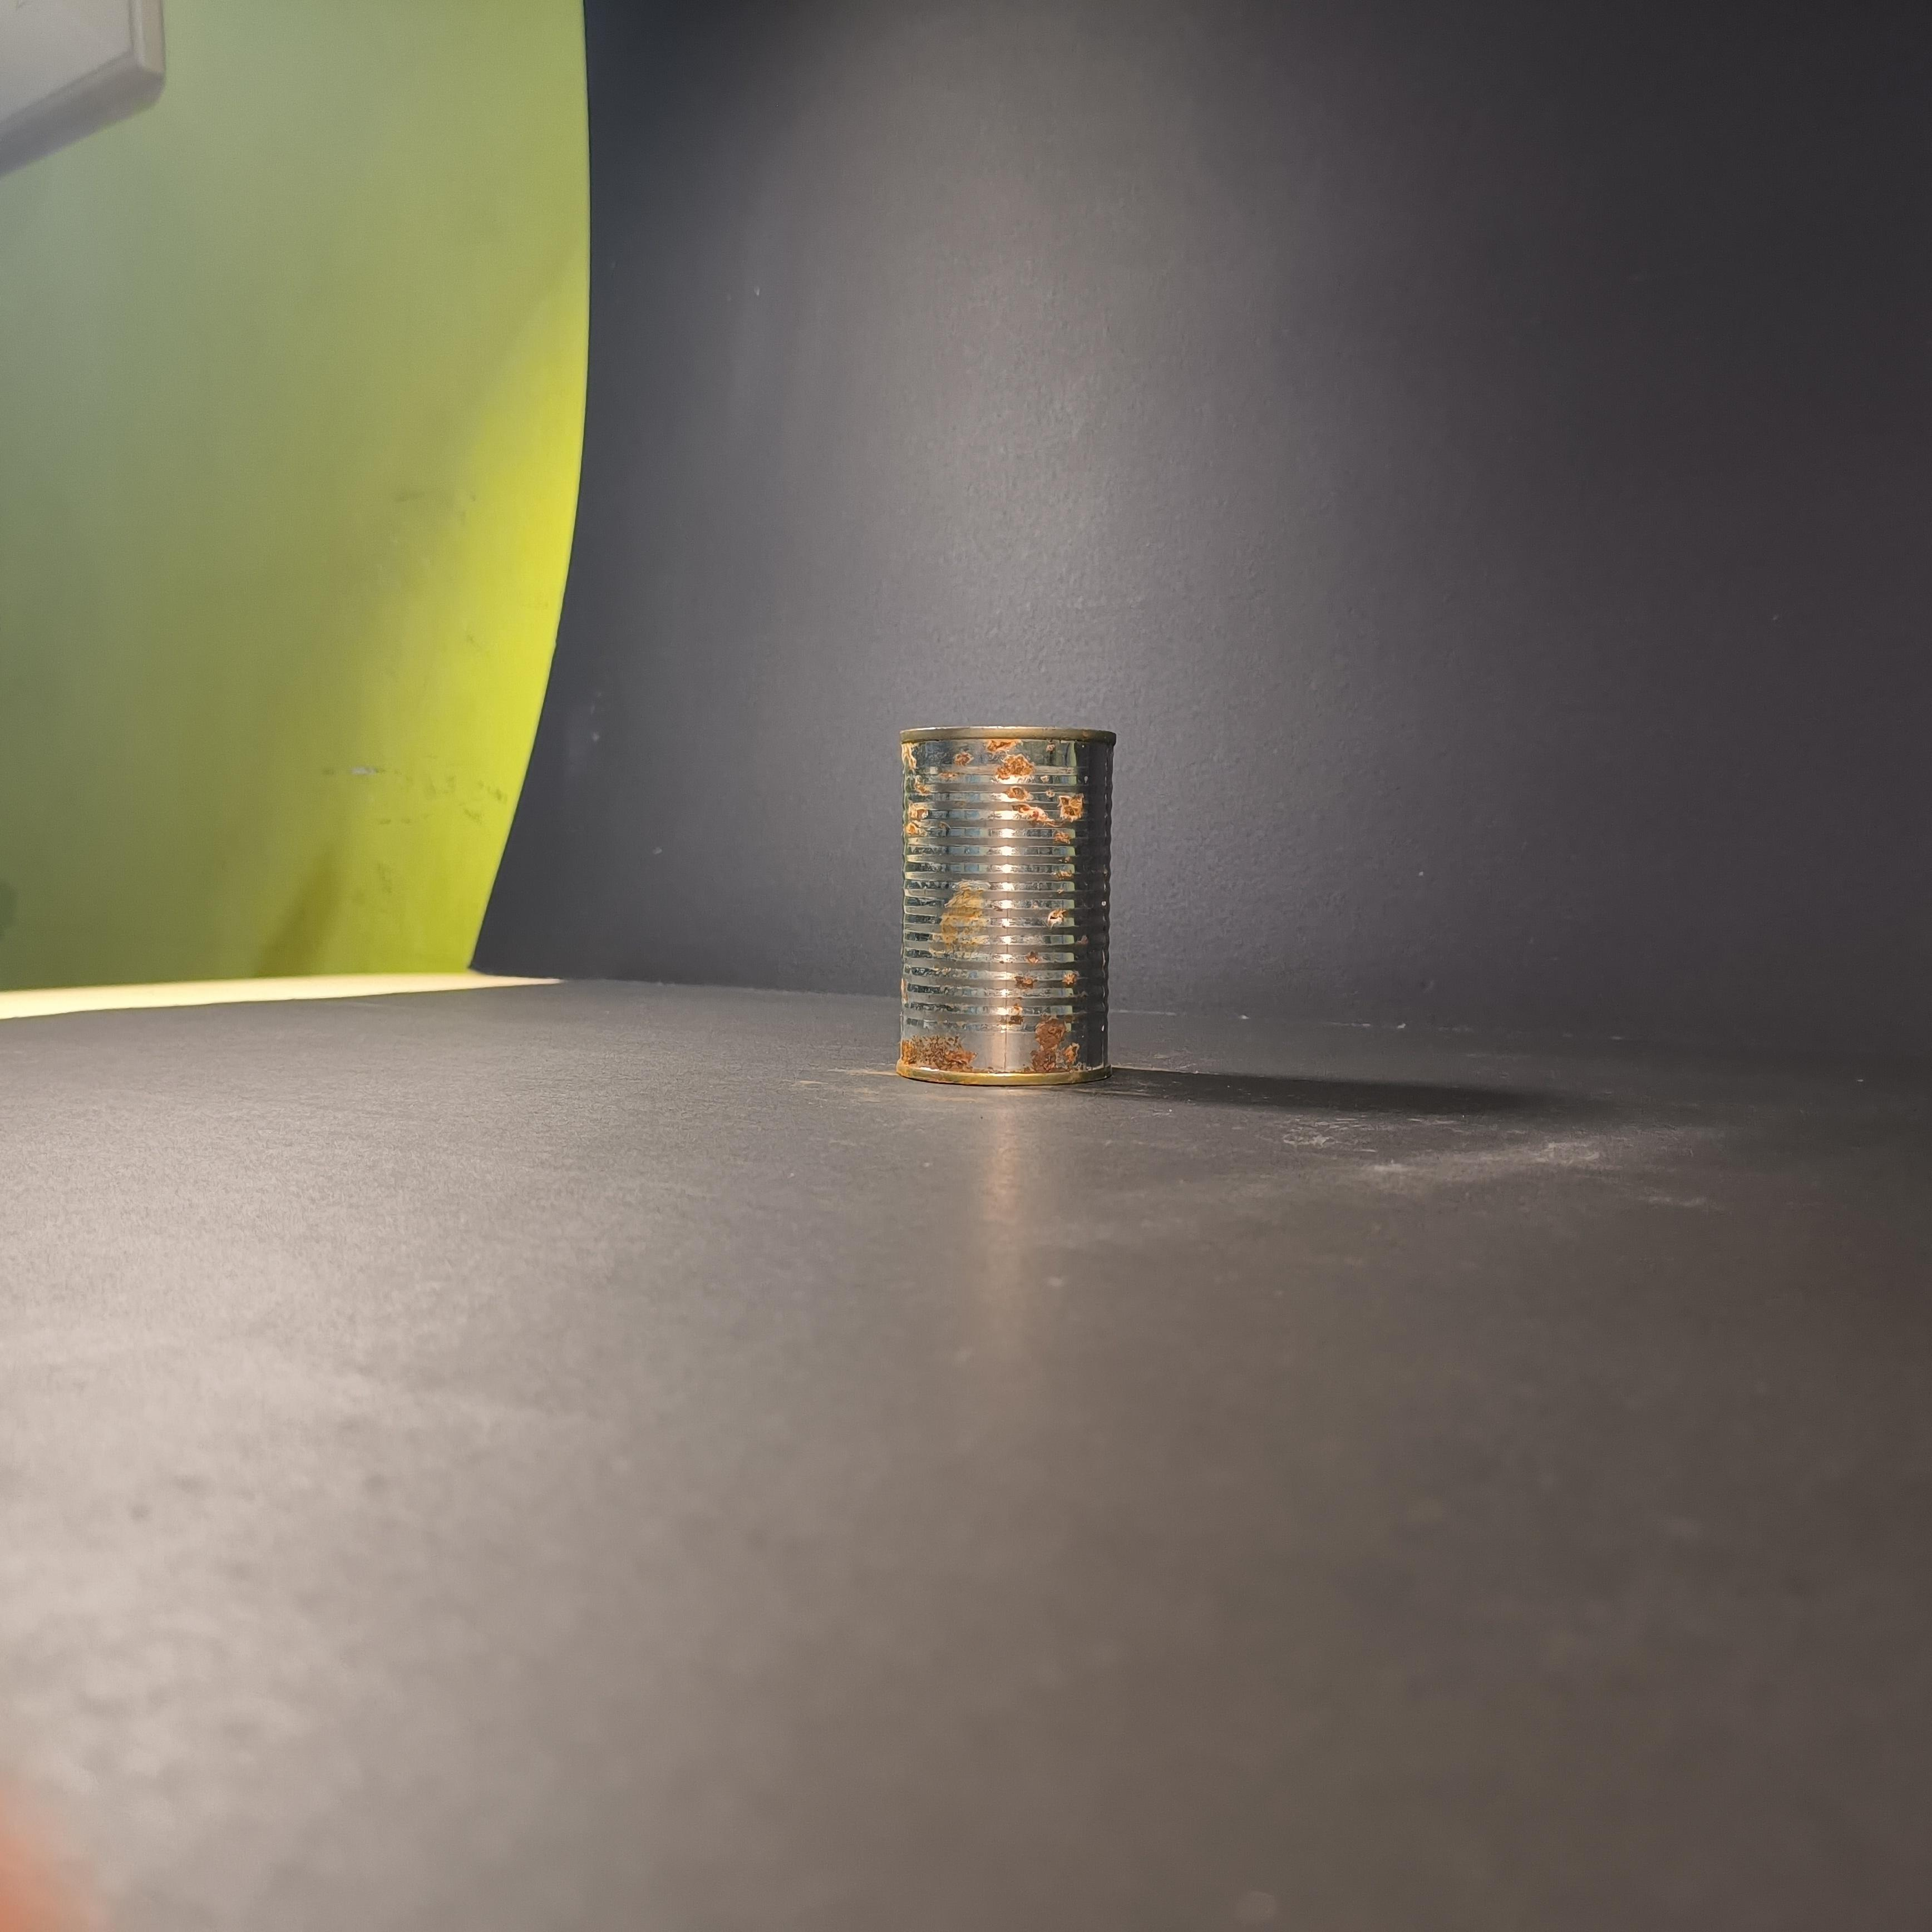Rusted: (890, 715, 1123, 1099)
